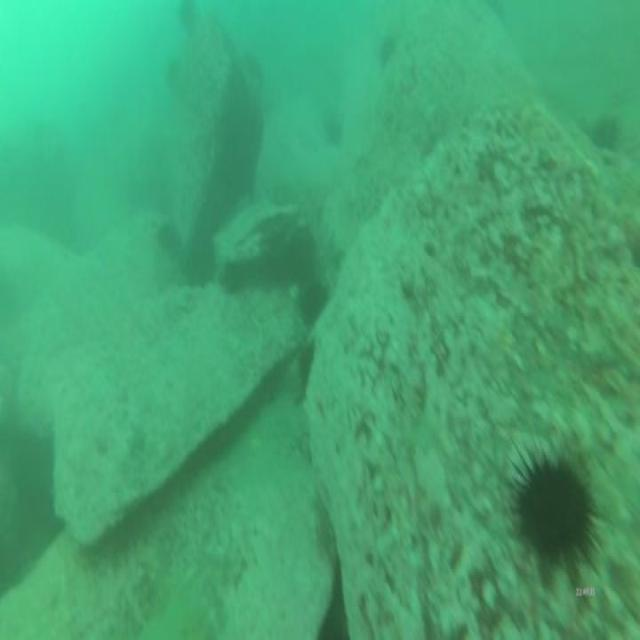echinus: (504, 433, 602, 583), (297, 282, 332, 331), (294, 336, 316, 404), (588, 114, 622, 158), (154, 215, 186, 259), (318, 106, 345, 153), (217, 256, 243, 300), (176, 0, 199, 40), (377, 30, 397, 76)
